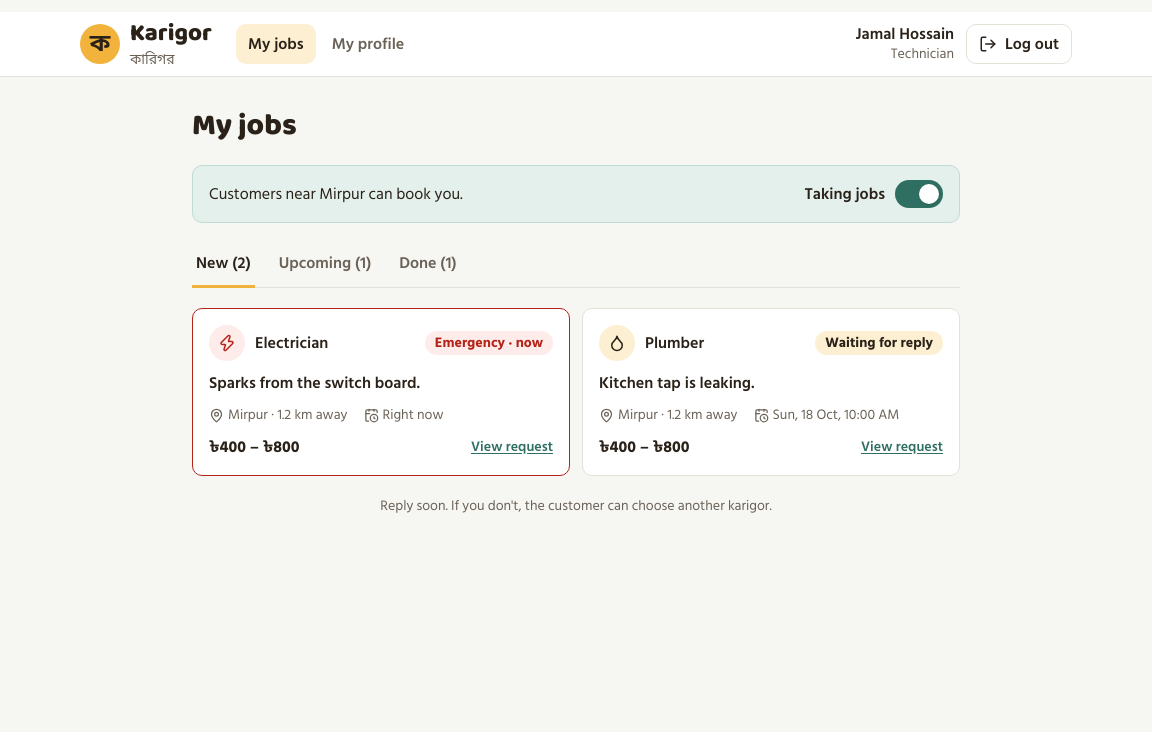
My jobs › sorts jobs into tabs with emergencies first
Expected: the number of links named "View request" is 2, [192, 308, 570, 476]; [582, 308, 960, 476]
Expected: the text "Emergency · now" is shown, [425, 331, 553, 355]
Click the tab "Done (1)". click: (428, 266)
box: [395, 243, 461, 288]
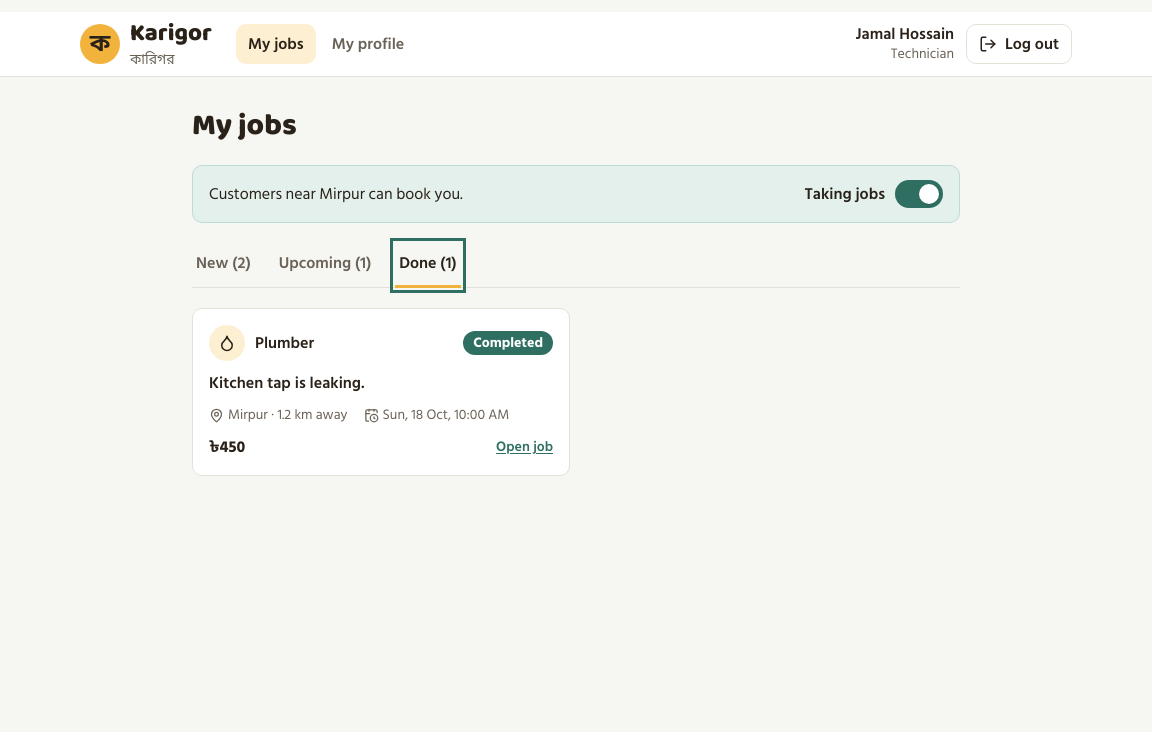
Result: the text "৳450" is shown at [209, 435, 245, 459]
